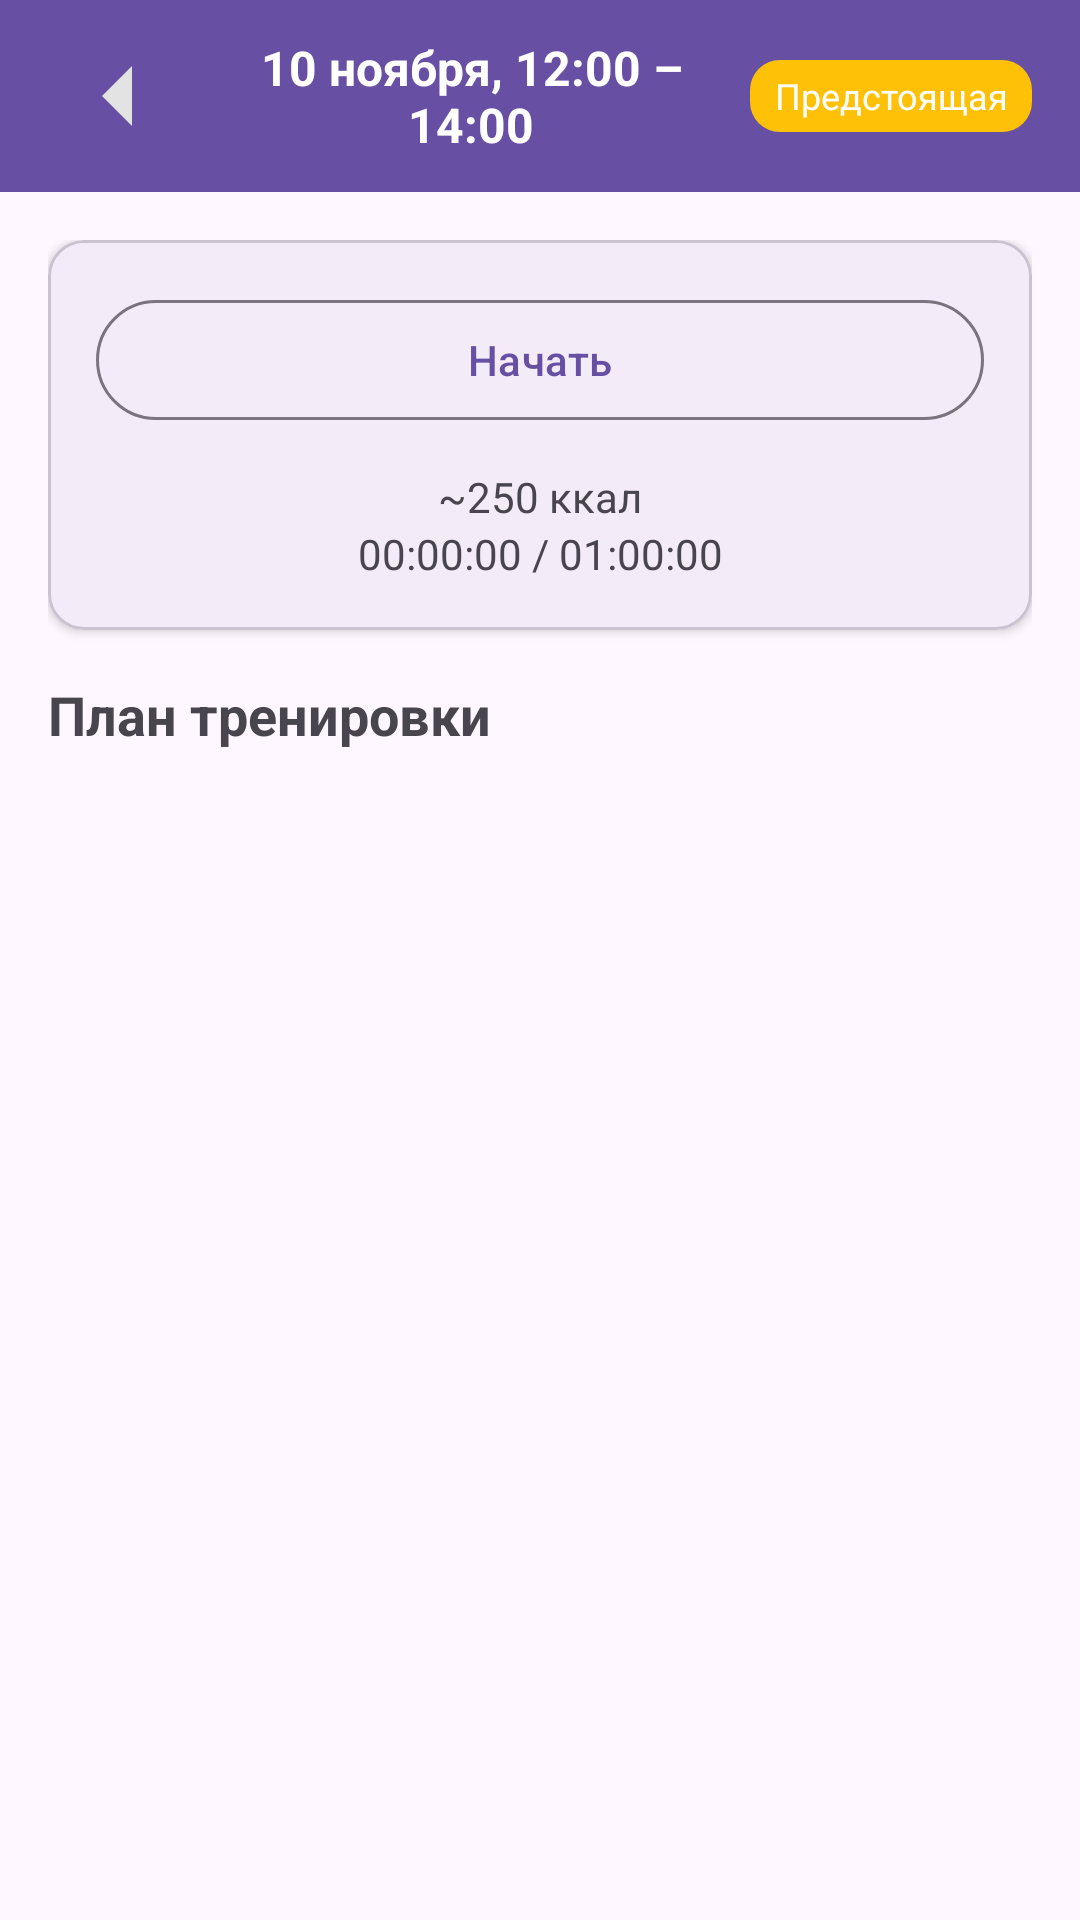

Locate icon controls on the screen. Image size 1080w x 1920h, boxes as (x1=x1, y1=y1, x2=x2, y2=y2).
Назад: (x1=102, y1=66, x2=132, y2=126)
